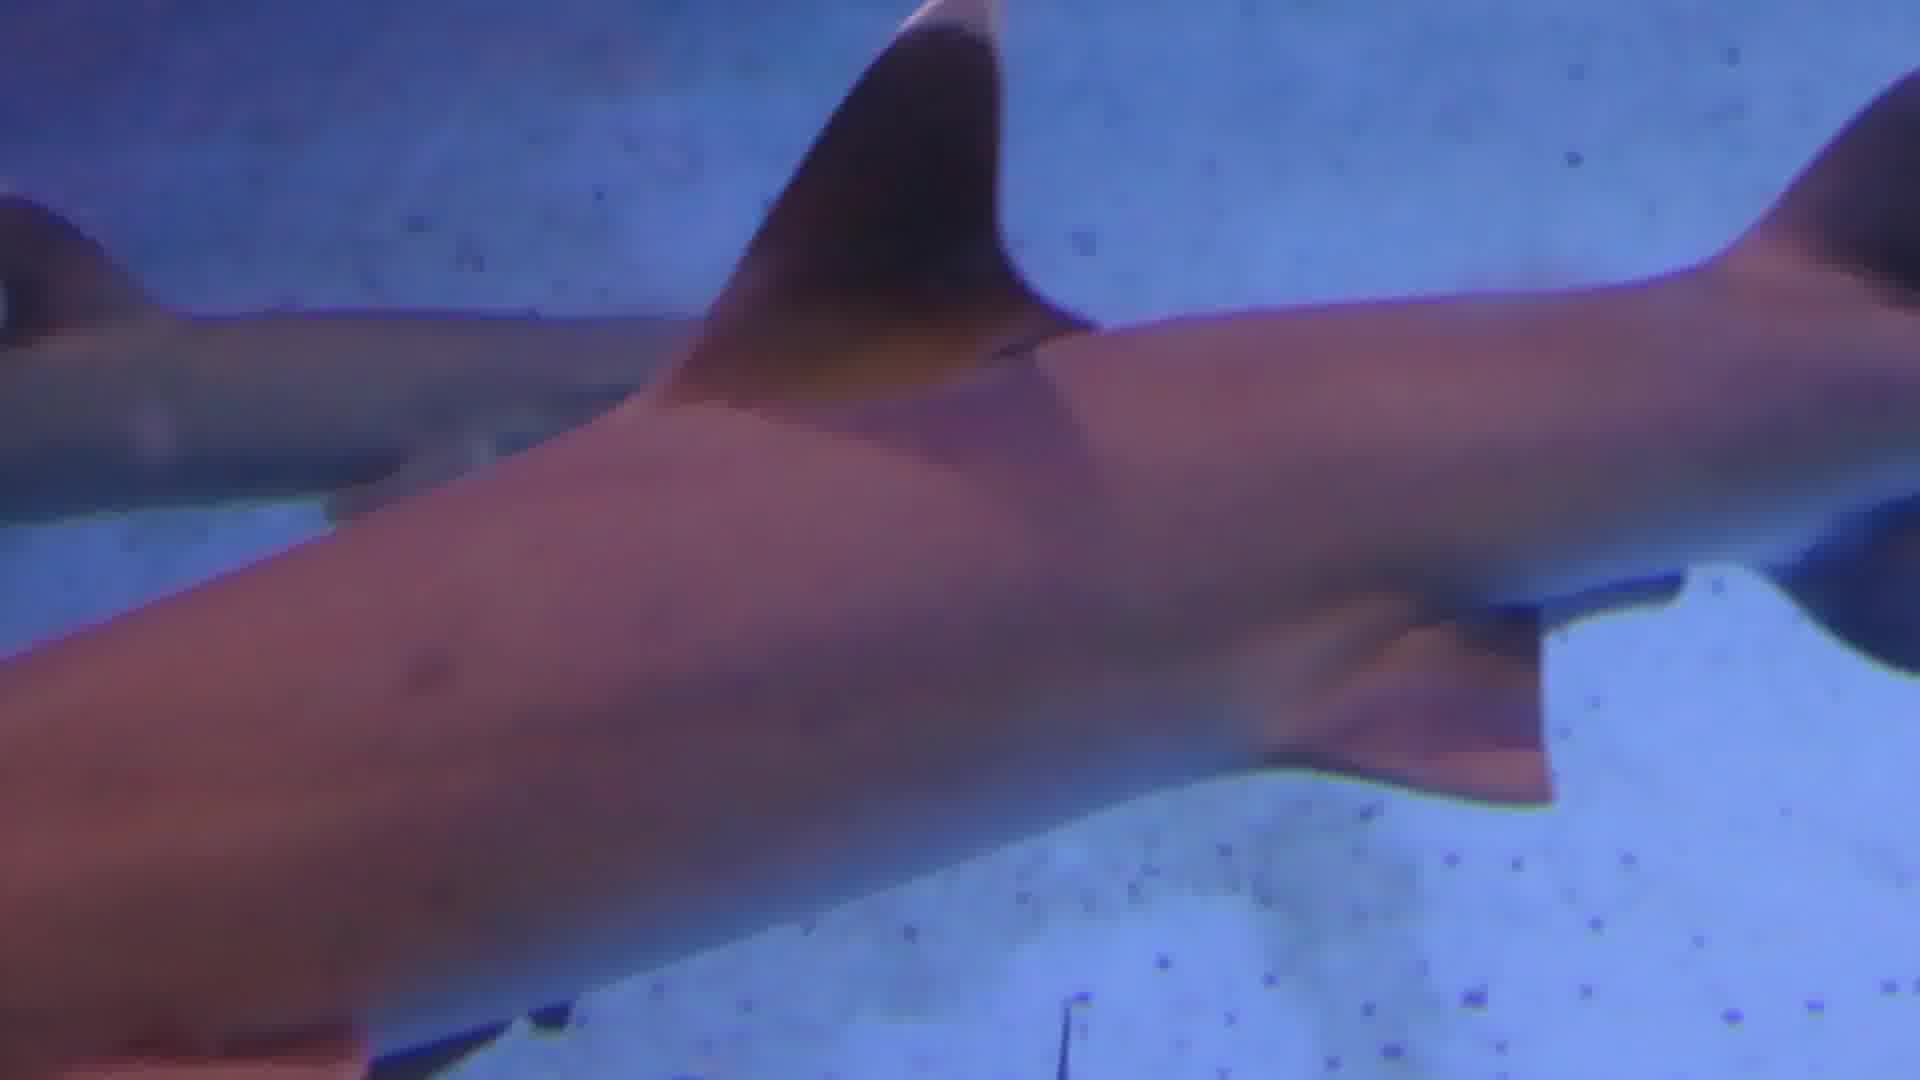Triaenodon obesus: (1, 8, 1920, 982)
